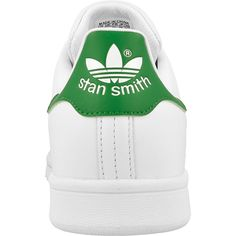adidas Fake: (73, 36, 159, 104)
